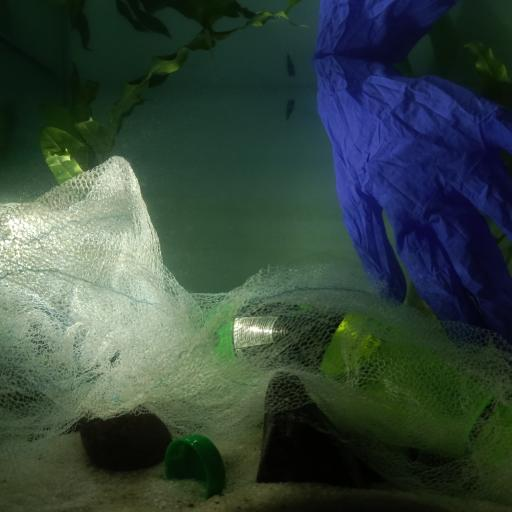bottle_cap: (165, 436, 227, 492)
glove: (315, 56, 512, 344)
net: (0, 156, 512, 484)
plastic_bottle: (200, 300, 512, 464)
